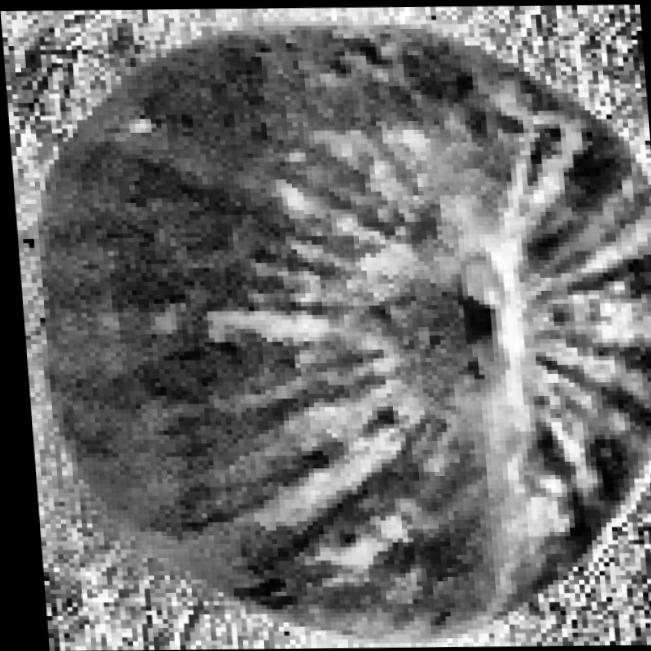damagedHazelnut: (5, 0, 651, 651)
